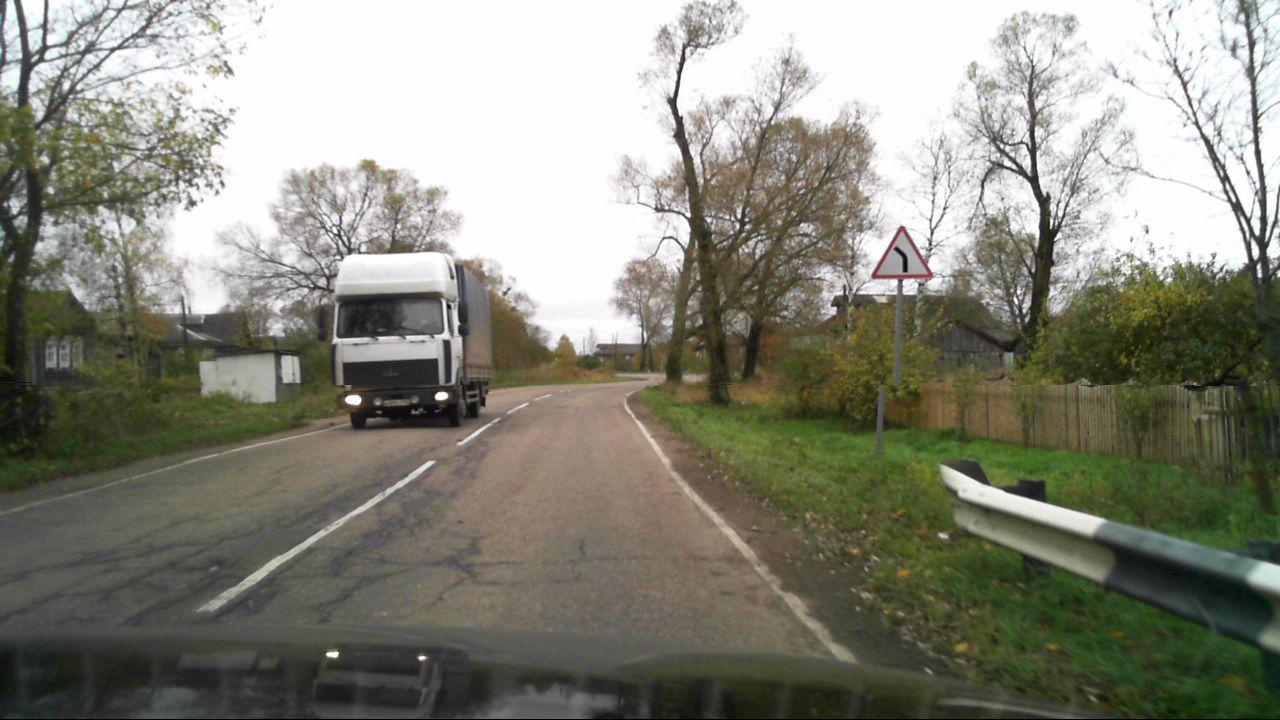1_11_2: (870, 222, 937, 282)
